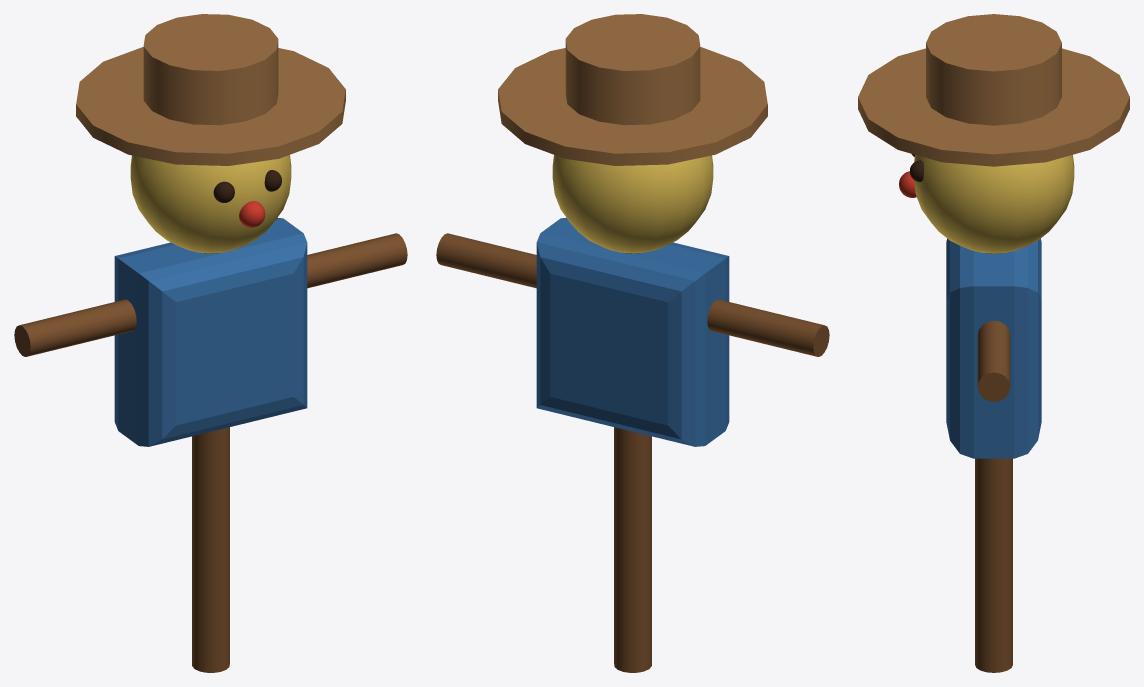
Rendered from scarecrow.glb.
The picture shows the model from 3 angles, left to right: view 1: azimuth 30°, elevation 25°; view 2: azimuth 150°, elevation 25°; view 3: azimuth 270°, elevation 25°; orthographic projection.
Parts seen in each view (by area): view 1: farm_scarecrow; view 2: farm_scarecrow; view 3: farm_scarecrow.
Part boxes in pixels (x1,y1,x2,y2): farm_scarecrow: (14, 14, 407, 672); farm_scarecrow: (436, 14, 829, 672); farm_scarecrow: (858, 14, 1129, 672).
Size of the model in its own units: 1.6 by 2.53 by 1.
